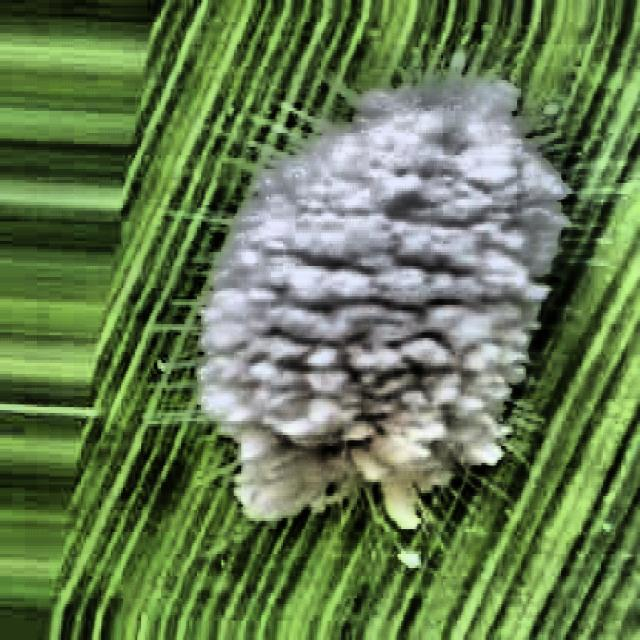Mealy-bug: (147, 16, 588, 589)
